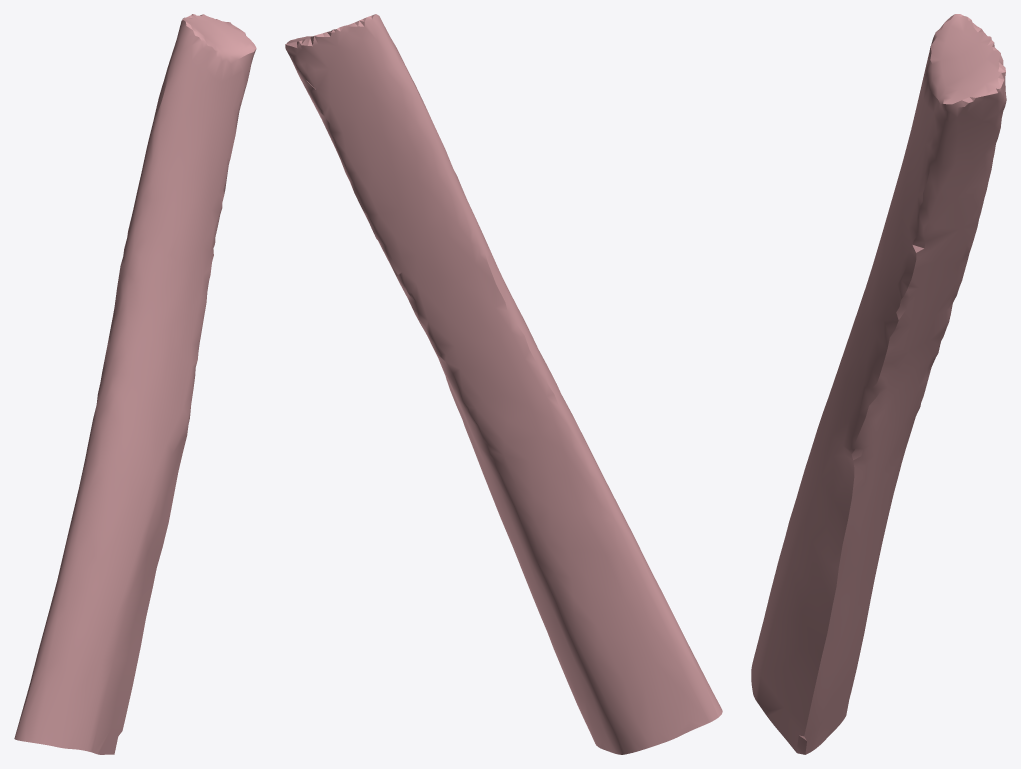
File: fma85448_mm2252.glb
3 renders of one model, left to right at view 1: azimuth 30°, elevation 25°; view 2: azimuth 150°, elevation 25°; view 3: azimuth 270°, elevation 25°, orthographic. The views are drawn at different scales.
Visible parts, largest first — view 1: FMA85448_MM2252; view 2: FMA85448_MM2252; view 3: FMA85448_MM2252.
Boxes of the visible parts, x1,y1,x2,y2 form: FMA85448_MM2252: (14, 14, 256, 754); FMA85448_MM2252: (285, 14, 722, 754); FMA85448_MM2252: (751, 14, 1006, 754).
Bounding box in the file's own units: 0.0214 × 0.0439 × 0.0123.
